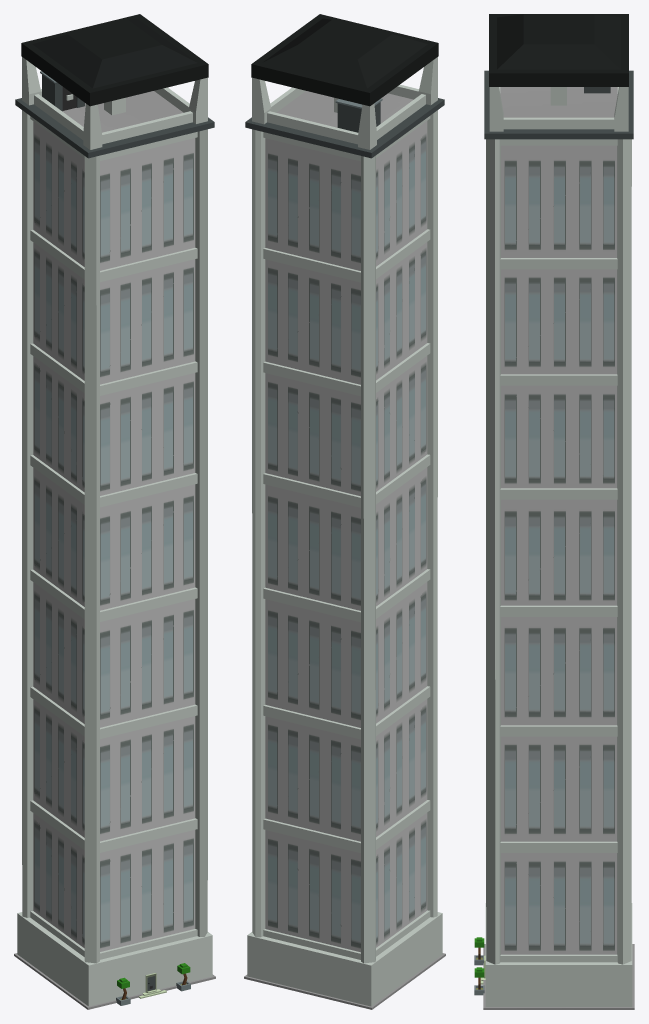
File: Sky Scraper Pilars Highest.fbx
3 views of the same model, side by side, from view 1: azimuth 30°, elevation 25°; view 2: azimuth 150°, elevation 25°; view 3: azimuth 270°, elevation 25° (orthographic). The views are drawn at different scales.
Visible parts, largest first — view 1: Sky Scraper Pilars Highest; view 2: Sky Scraper Pilars Highest; view 3: Sky Scraper Pilars Highest.
Part boxes in pixels (left/top/right/bottom): Sky Scraper Pilars Highest: left=14, top=14, right=215, bottom=1009; Sky Scraper Pilars Highest: left=244, top=14, right=445, bottom=1009; Sky Scraper Pilars Highest: left=474, top=14, right=634, bottom=1009.
Bounding box in the file's own units: 6.16 × 42.62 × 6.52.
